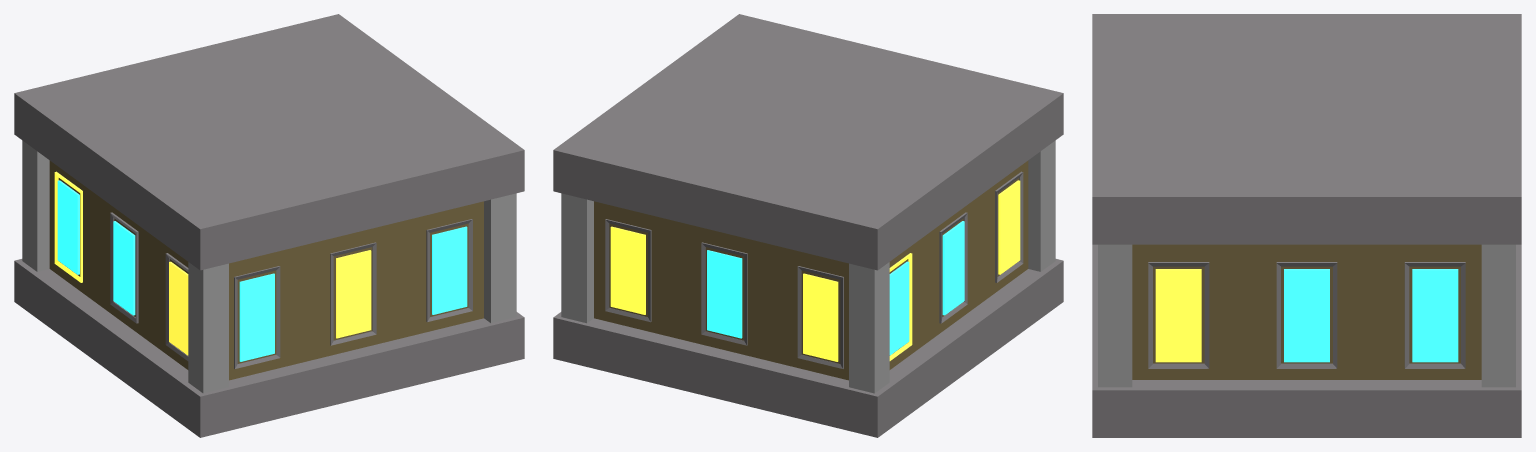
The model's file is apartment-2.glb.
3 views of the same model, side by side, from view 1: azimuth 30°, elevation 25°; view 2: azimuth 150°, elevation 25°; view 3: azimuth 270°, elevation 25° (orthographic). The views are drawn at different scales.
Visible parts, largest first — view 1: Cube.014, Cube.002, Cube.013, Cube.016, Cube.004, Cube.005, Cube.006, Cube.015, Cube.017, Cube.010, Cube.012, Cube.011; view 2: Cube.014, Cube.002, Cube.013, Cube.017, Cube.003, Cube, Cube.001, Cube.018, Cube.016, Cube.010, Cube.011, Cube.012; view 3: Cube.014, Cube.002, Cube.013, Cube.007, Cube.008, Cube.009, Cube.015, Cube.018.
Part boxes in pixels (x1,y1,x2,y2): Cube.014: (14,14,524,270); Cube.002: (49,160,483,380); Cube.013: (14,259,524,437); Cube.016: (188,262,228,393); Cube.004: (330,242,376,345); Cube.005: (426,219,472,322); Cube.006: (234,266,280,368); Cube.015: (484,193,516,323); Cube.017: (22,140,49,271); Cube.010: (110,212,138,323); Cube.012: (54,171,82,282); Cube.011: (165,253,188,360); Cube.014: (553,14,1063,270); Cube.002: (594,160,1028,380); Cube.013: (553,259,1063,437); Cube.017: (849,262,889,393); Cube.003: (701,242,747,345); Cube: (605,219,651,322); Cube.001: (797,266,843,368); Cube.018: (561,193,593,323); Cube.016: (1028,140,1055,271); Cube.010: (939,212,967,323); Cube.011: (995,171,1023,282); Cube.012: (889,253,912,360); Cube.014: (1092,14,1521,244); Cube.002: (1132,244,1481,379); Cube.013: (1092,244,1521,437); Cube.007: (1148,262,1209,368); Cube.008: (1404,262,1465,368); Cube.009: (1276,262,1337,368); Cube.015: (1098,244,1132,387); Cube.018: (1481,244,1515,387).
Size of the model in its own units: 13.28 by 8.16 by 13.17.
